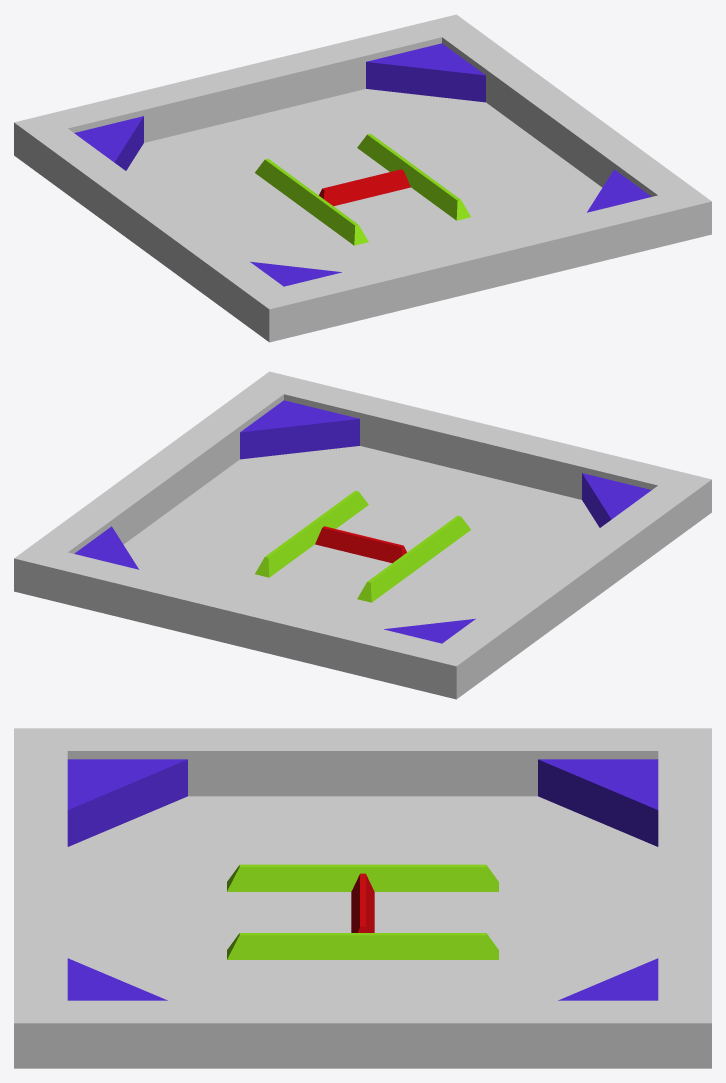
File: level_simple_geometry.glb
3 renders of one model, top to bottom at view 1: azimuth 30°, elevation 25°; view 2: azimuth 150°, elevation 25°; view 3: azimuth 270°, elevation 25°, orthographic. The views are drawn at different scales.
Visible parts, largest first — view 1: Basic Floor_col, Ramp_col, Blockade2_col, Blockade_col; view 2: Basic Floor_col, Ramp_col, Blockade2_col, Blockade_col; view 3: Basic Floor_col, Ramp_col, Blockade2_col, Blockade_col.
Part boxes in pixels (<box>): Basic Floor_col: <box>14,14,711,342</box>; Ramp_col: <box>74,43,651,286</box>; Blockade2_col: <box>255,133,470,245</box>; Blockade_col: <box>319,169,410,206</box>; Basic Floor_col: <box>14,371,711,699</box>; Ramp_col: <box>74,400,651,643</box>; Blockade2_col: <box>255,490,470,602</box>; Blockade_col: <box>315,526,406,563</box>; Basic Floor_col: <box>14,728,711,1068</box>; Ramp_col: <box>67,759,658,1000</box>; Blockade2_col: <box>227,864,498,959</box>; Blockade_col: <box>351,873,374,932</box>.
Bounding box in the file's own units: 60.34 × 4.47 × 60.34.
